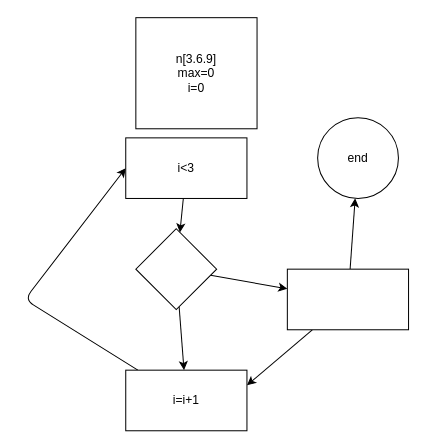
Image size: 426x448. Some labels were removed from this diagram. The shapes that lost their labels are listed below. From the top down, each one's centre as x and y in pixels, then its label:
At (x=176, y=269): "n[i]>max".
At (x=347, y=299): "n[i]=max".
